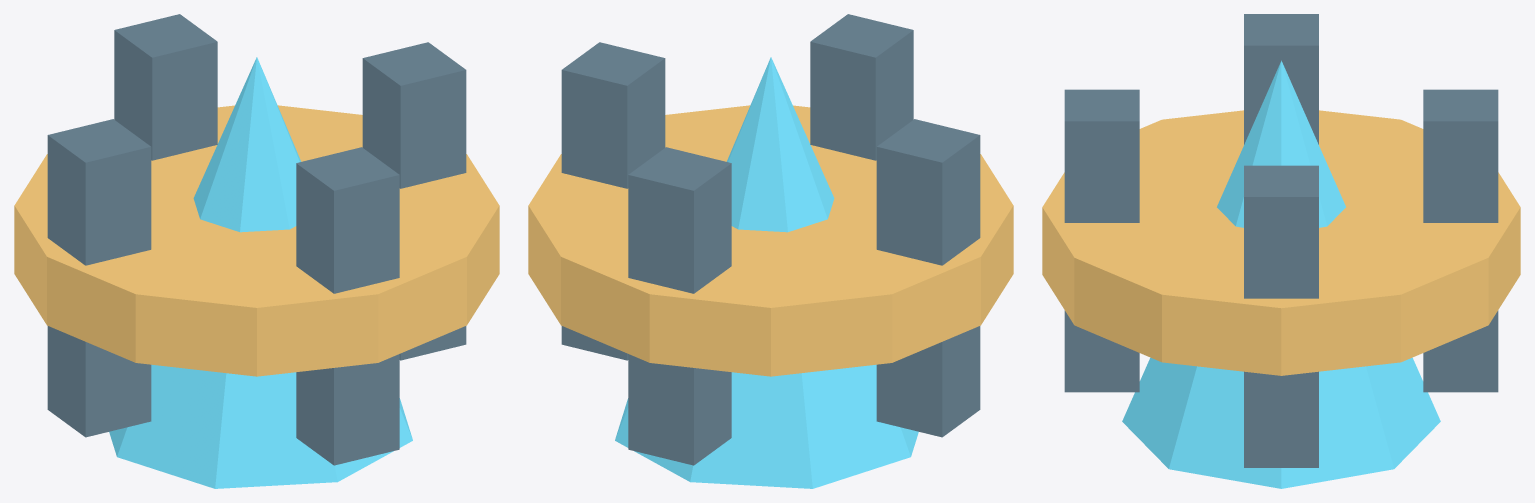
The model's file is orb.glb.
The picture shows the model from 3 angles, left to right: view 1: azimuth 30°, elevation 25°; view 2: azimuth 150°, elevation 25°; view 3: azimuth 270°, elevation 25°; orthographic projection.
Parts seen in each view (by area): view 1: orb; view 2: orb; view 3: orb.
Boxes of the visible parts, x1,y1,x2,y2 form: orb: (14, 14, 499, 488); orb: (528, 14, 1013, 488); orb: (1042, 14, 1520, 488).
Bounding box in the file's own units: 0.96 × 0.8 × 0.96.
